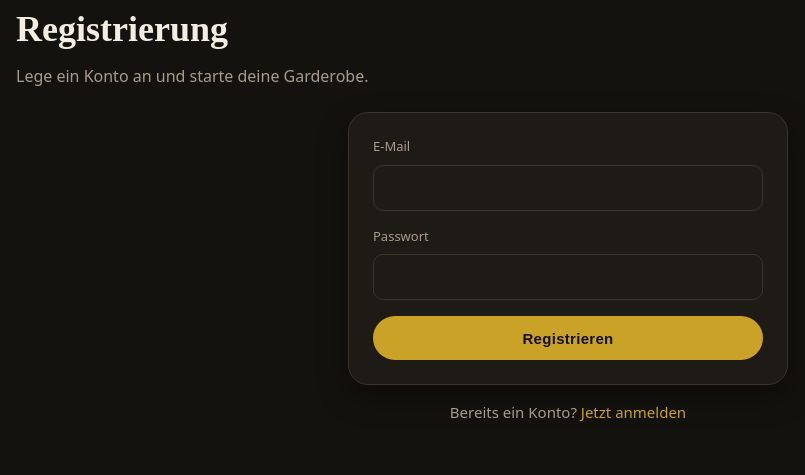
Scenario: register › shows an error when the email is already taken
Type "b@example.com" into the field labelled "E-Mail" at {"x": 568, "y": 188}, box [373, 164, 763, 210]
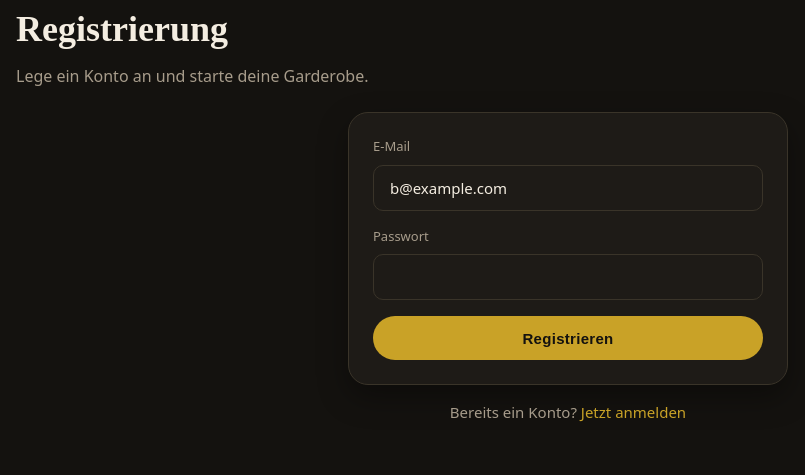
Type "secret" into the password field labelled "Passwort" at {"x": 568, "y": 277}, box [373, 254, 763, 300]
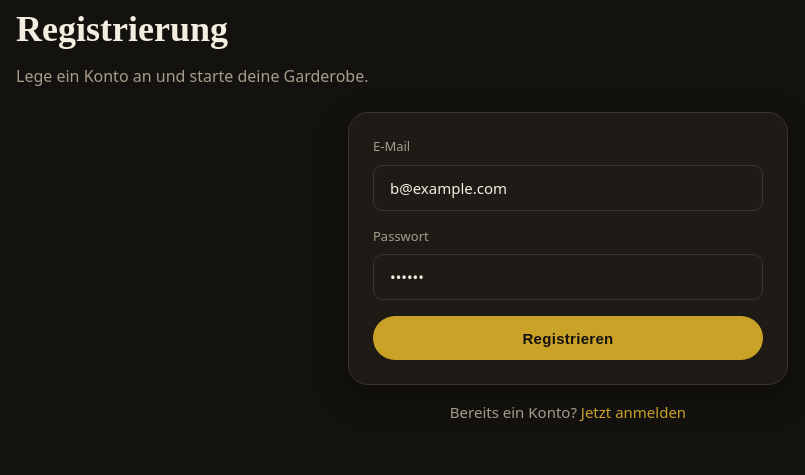
Click the button "Registrieren" at {"x": 568, "y": 338}, box [373, 316, 763, 360]
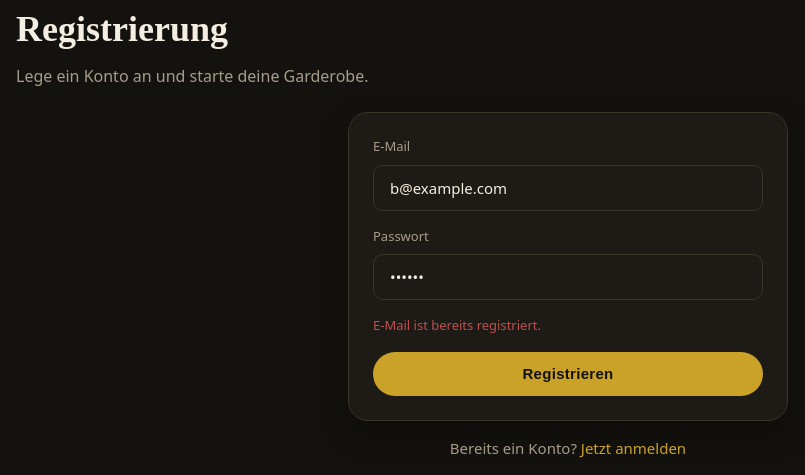
Check: the message reads "E-Mail ist bereits registriert.", box [373, 316, 541, 334]
